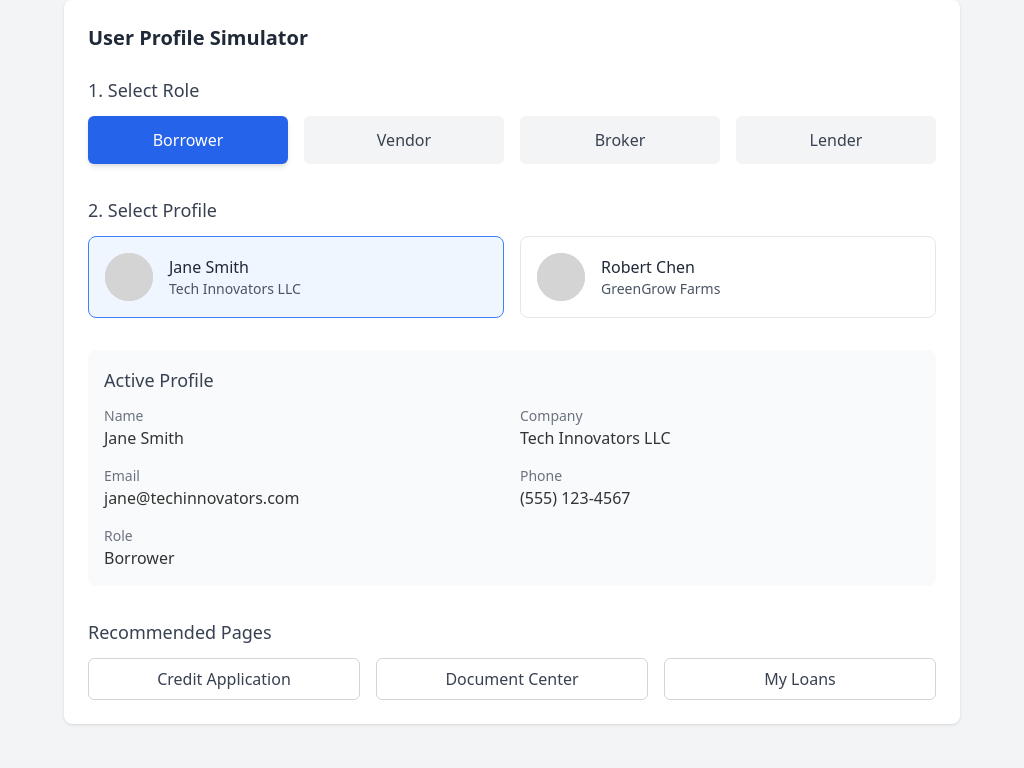
Test: UserProfileSimulator › changes role when user clicks on a different role button
Click lender role button
Click the button "lender".
click(836, 140)  # box [736,116,936,164]
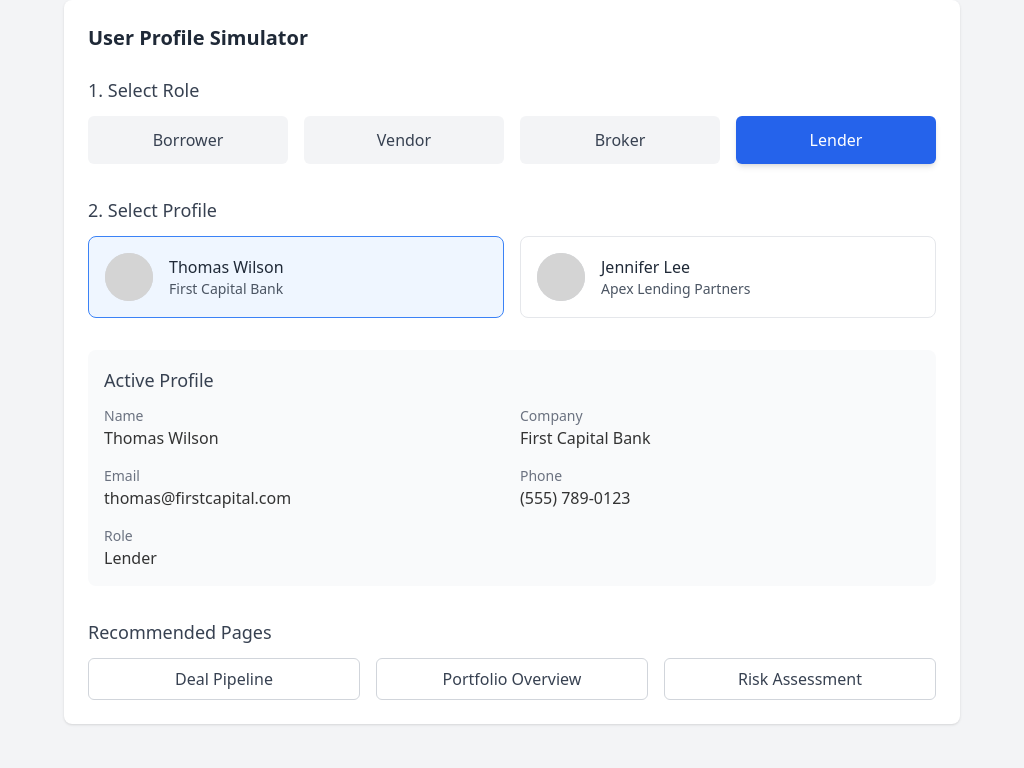
Expected: the heading "Thomas Wilson" is shown, [169,255,284,279]
Expected: the text "First Capital Bank" in the row of "Apex Lending Partners" is shown, [169,279,283,298]
